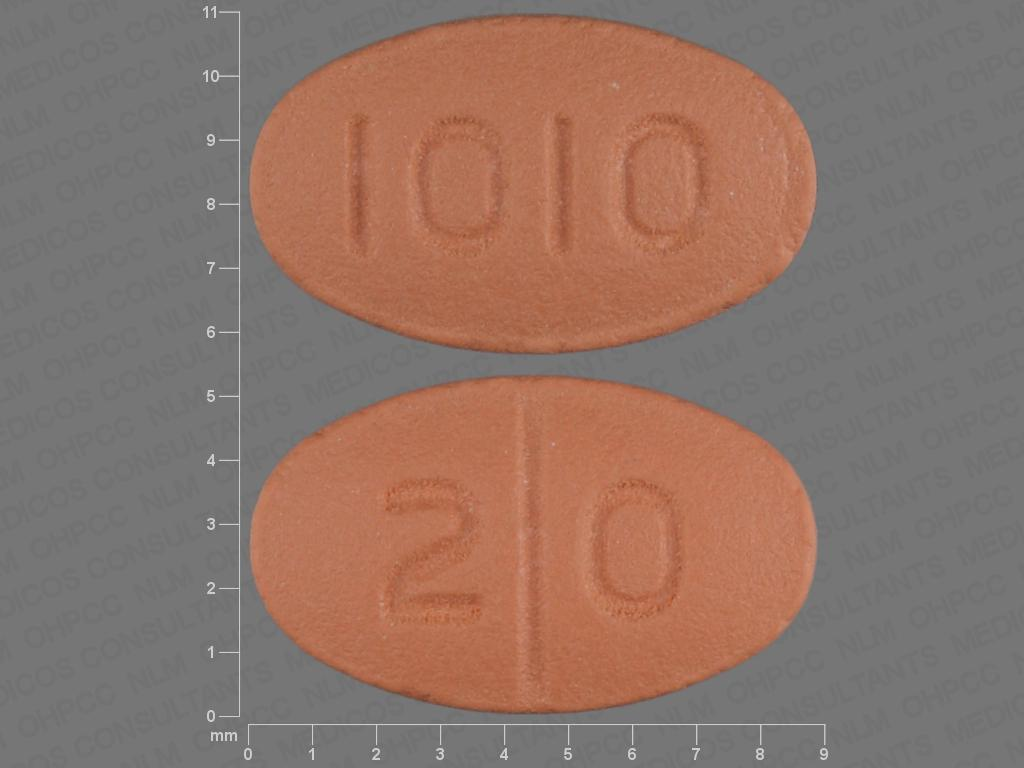Pill: (241, 4, 823, 366), (246, 369, 826, 717)
